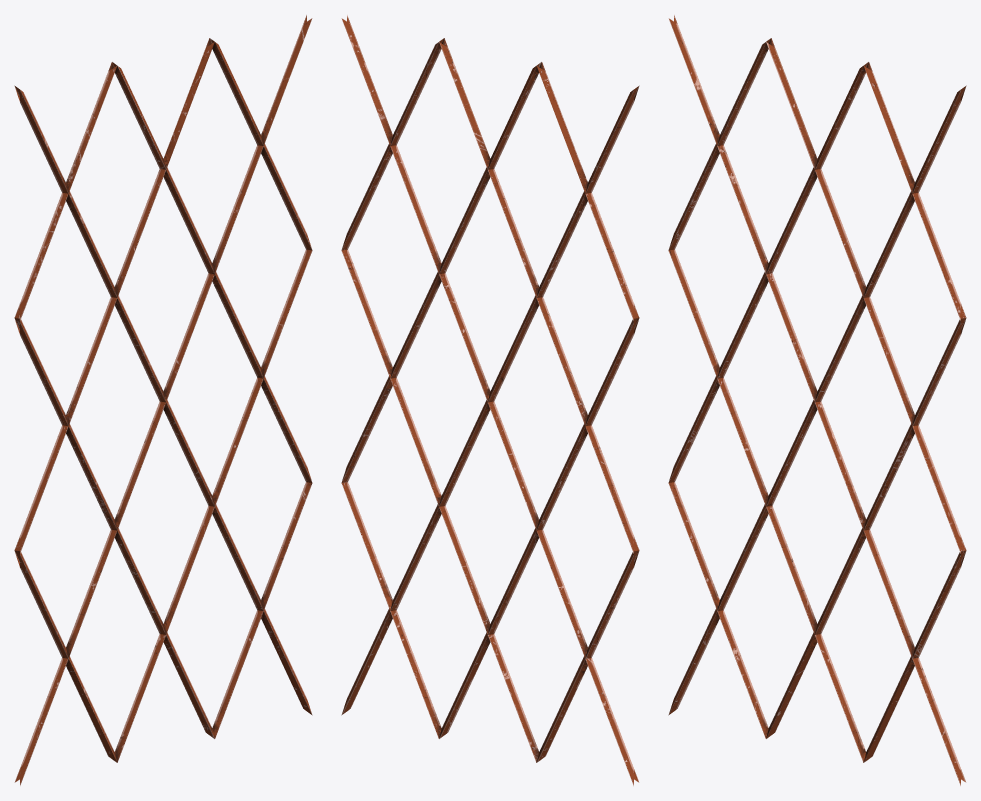
File: BCheckered_Copper.gltf
3 renders of one model, left to right at view 1: azimuth 30°, elevation 25°; view 2: azimuth 150°, elevation 25°; view 3: azimuth 330°, elevation 25°, orthographic.
Visible parts, largest first — view 1: Plane.003; view 2: Plane.003; view 3: Plane.003.
Boxes of the visible parts, bbox=[...] form: Plane.003: bbox=[14, 15, 312, 785]; Plane.003: bbox=[341, 15, 639, 785]; Plane.003: bbox=[668, 15, 966, 785].
Bounding box in the file's own units: 3.01 × 6.85 × 0.0973.
Materials: 1 (1 with a texture image).
